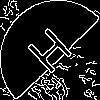H: (24, 25, 82, 84)
